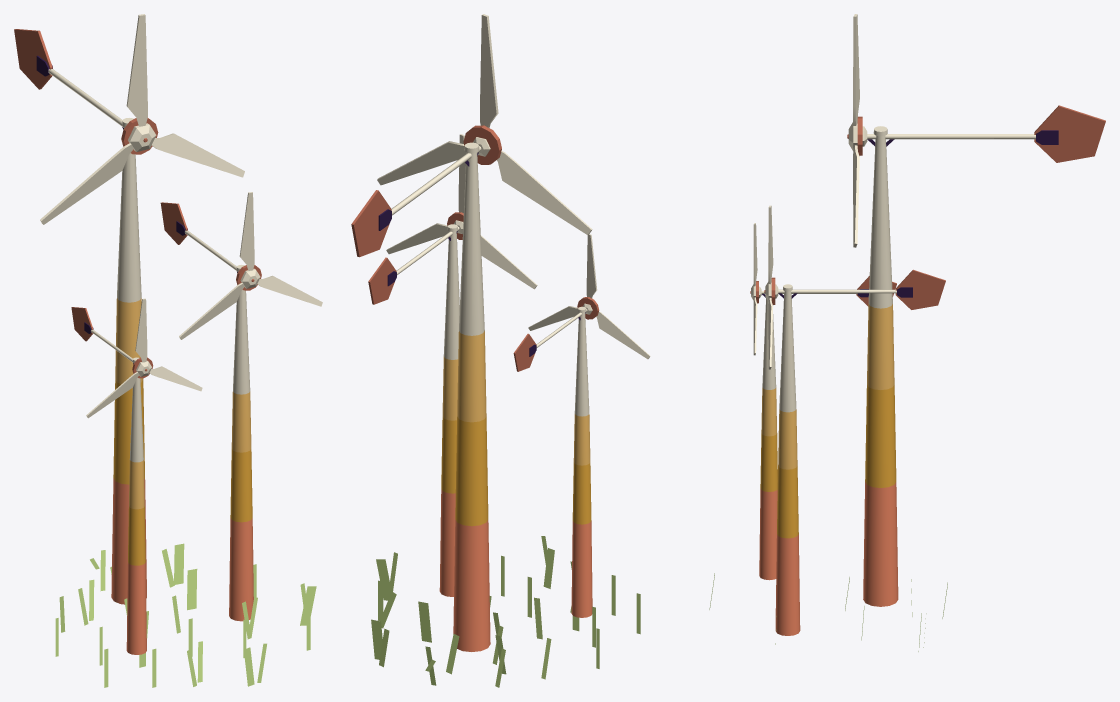
Rendered from M_Windmill_Var1_6.fbx.
3 views of the same model, side by side, from view 1: azimuth 30°, elevation 25°; view 2: azimuth 150°, elevation 25°; view 3: azimuth 270°, elevation 25° (orthographic). The views are drawn at different scales.
Parts seen in each view (by area): view 1: M_Windmill_Var1_6; view 2: M_Windmill_Var1_6; view 3: M_Windmill_Var1_6.
Part boxes in pixels (x1=…): M_Windmill_Var1_6: x1=14, y1=14, x2=322, y2=687; M_Windmill_Var1_6: x1=351, y1=14, x2=650, y2=687; M_Windmill_Var1_6: x1=709, y1=14, x2=1105, y2=651.
Size of the model in its own units: 1.51 by 3.62 by 2.3.
